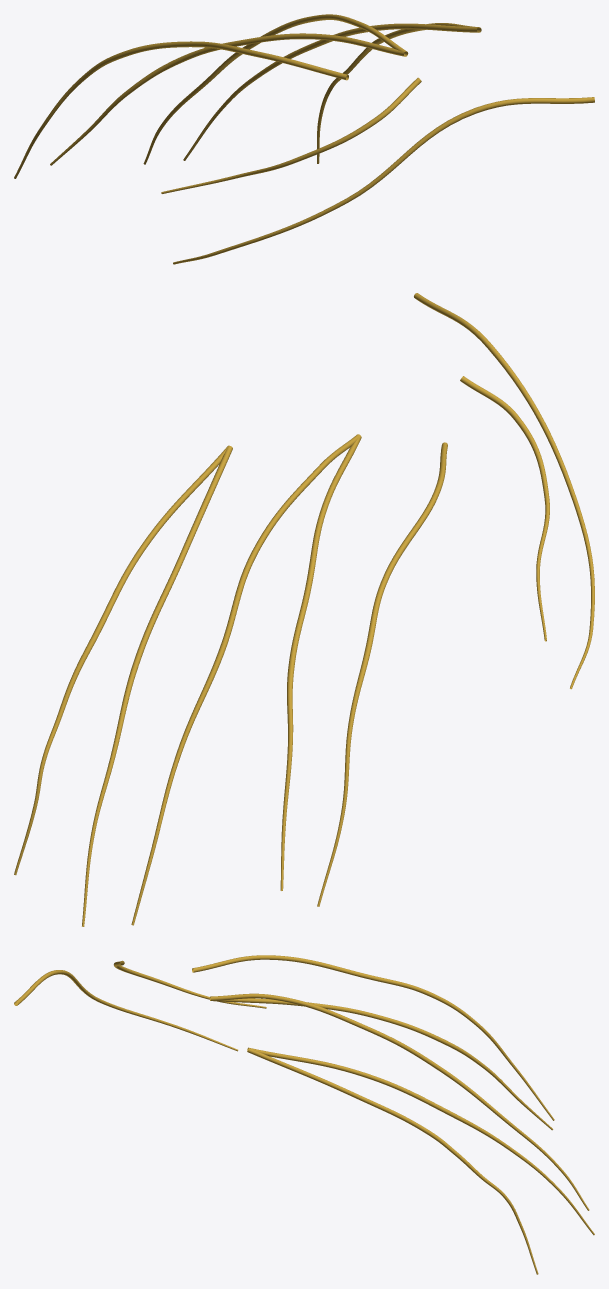
The picture shows the model from 3 angles, top to bottom: view 1: azimuth 30°, elevation 25°; view 2: azimuth 150°, elevation 25°; view 3: azimuth 270°, elevation 25°; orthographic projection. The views are drawn at different scales.
Parts seen in each view (by area): view 1: 右侧正中神经指掌侧固有神经; view 2: 右侧正中神经指掌侧固有神经; view 3: 右侧正中神经指掌侧固有神经.
Part boxes in pixels (x1,y1,x2,y2): 右侧正中神经指掌侧固有神经: (14,14,594,264); 右侧正中神经指掌侧固有神经: (14,293,594,926); 右侧正中神经指掌侧固有神经: (14,955,594,1274).
Size of the model in its own units: 0.0987 by 0.09 by 0.186.
